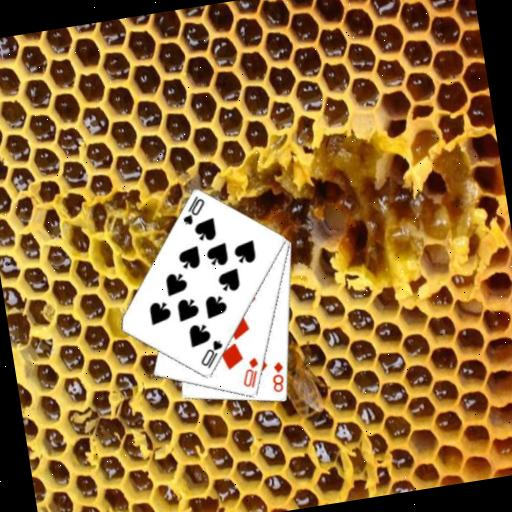10D: (236, 354, 263, 391)
10S: (194, 336, 228, 372), (176, 192, 209, 228)
8D: (266, 358, 289, 395)
